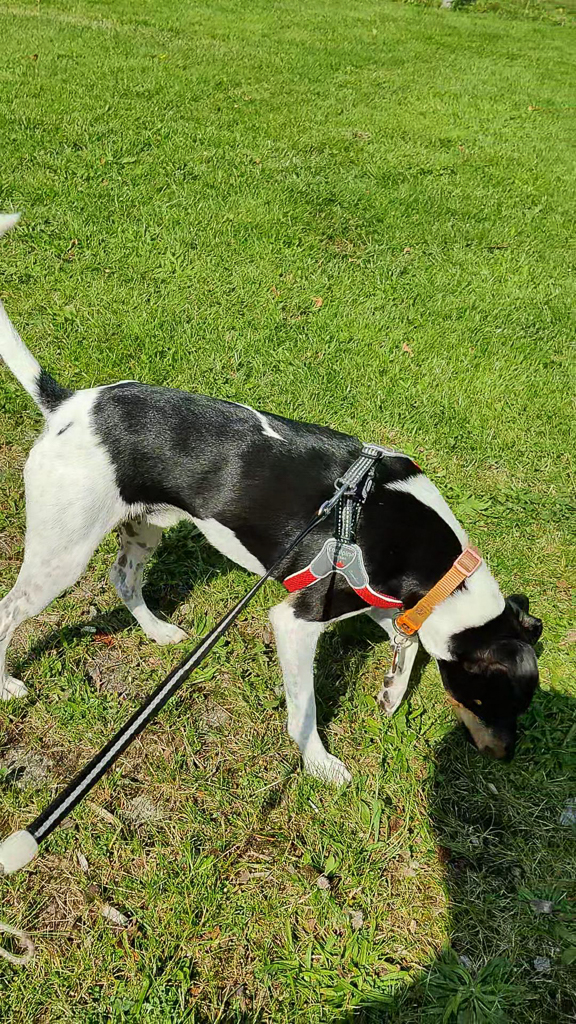Dog: (0, 201, 558, 798)
